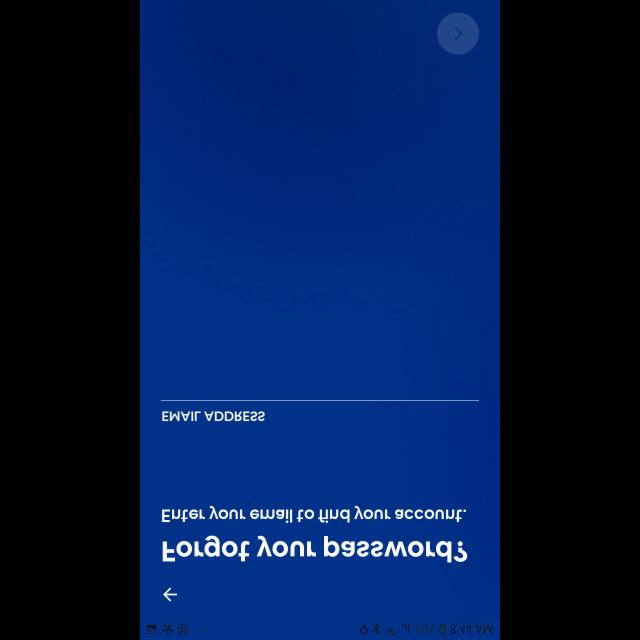icon: (436, 12, 479, 56), (162, 586, 178, 602)
input: (161, 399, 479, 421)
text: (162, 534, 468, 562), (162, 505, 466, 523), (163, 411, 265, 421)
uppertaskbar: (140, 618, 500, 640)
